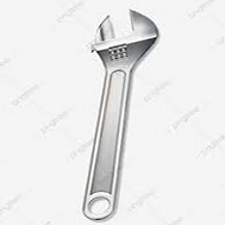Wrench: (76, 7, 160, 225)
